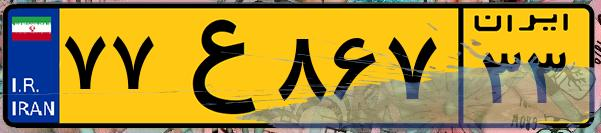3: (475, 38, 525, 113), (525, 38, 570, 115)
6: (330, 28, 385, 110)
7: (385, 28, 445, 110), (57, 26, 110, 100), (110, 28, 158, 98)
8: (270, 28, 330, 110)
ع: (158, 12, 270, 120)
